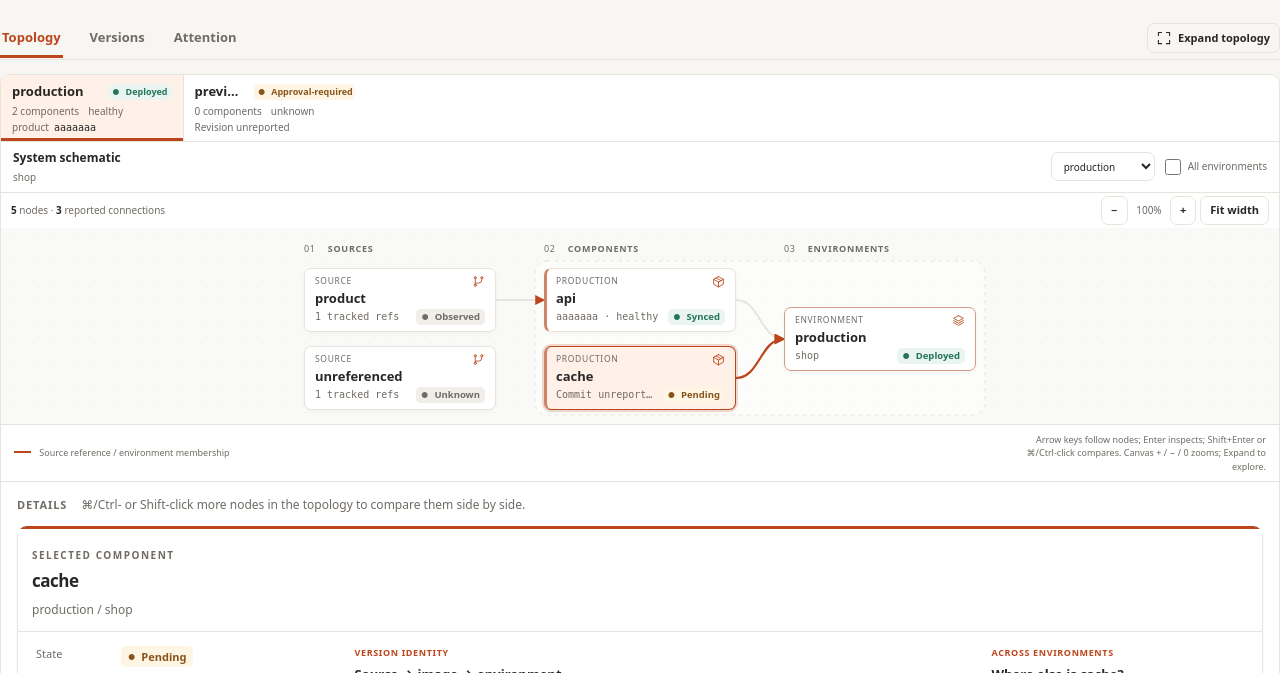
Test: restores a selected component from its URL and switches to an empty environment honestly
This screenshot has width=1280, height=673.
Expected: the heading "cache" is shown, 32,569 -> 78,592
Select "preview" in the dropdown named "Environment" at (1103, 167), box 1051,152 -> 1155,181
(page scrolled)
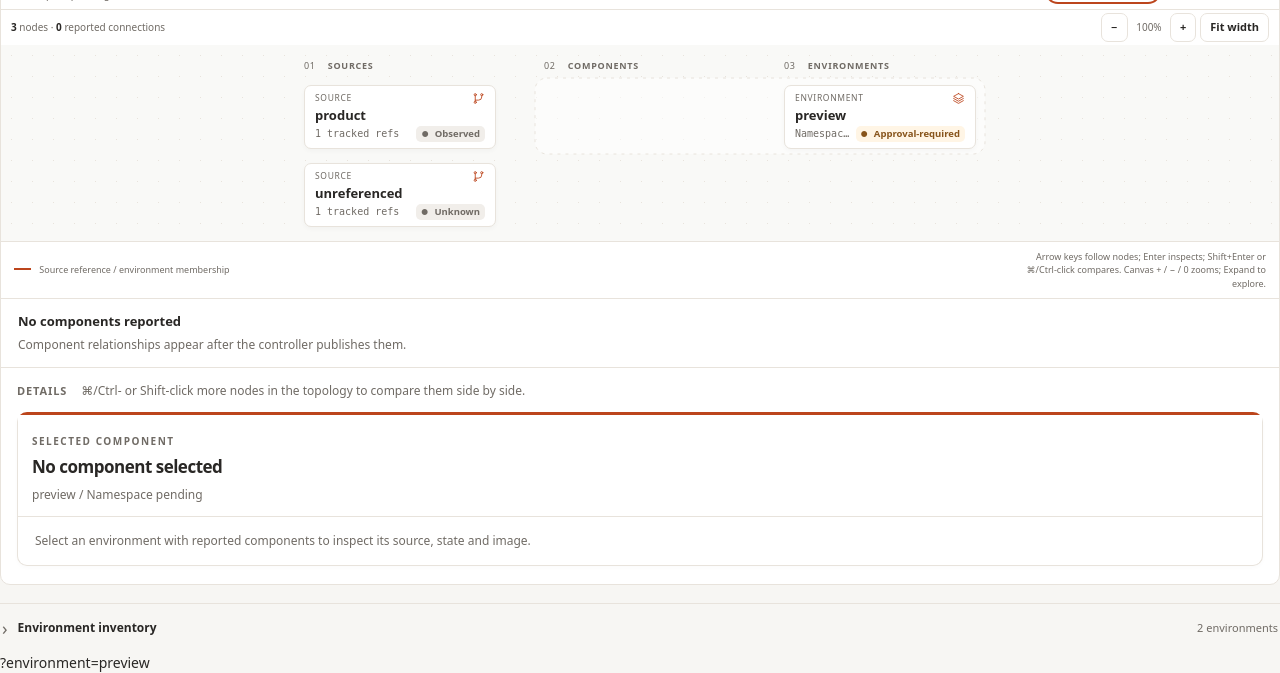
Now the heading "No components reported" is shown, box 18,312 -> 181,330
Now the heading "No component selected" is shown, box 32,454 -> 222,479
Now the text named "Current location" reads "?environment=preview", box 0,653 -> 150,672
